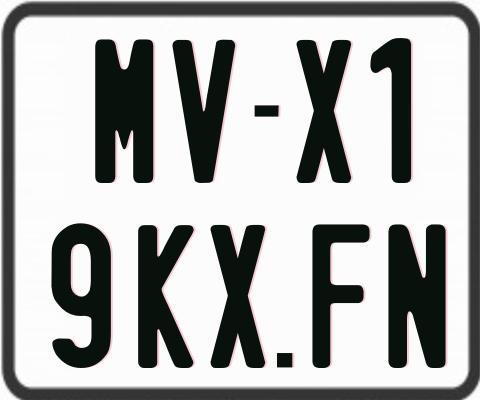1: (369, 35, 414, 183)
9: (50, 222, 112, 371)
F: (309, 221, 372, 365)
K: (138, 223, 195, 368)
M: (94, 37, 153, 183)
N: (388, 223, 449, 369)
V: (170, 38, 237, 186)
X: (209, 222, 265, 371), (297, 38, 351, 182)
